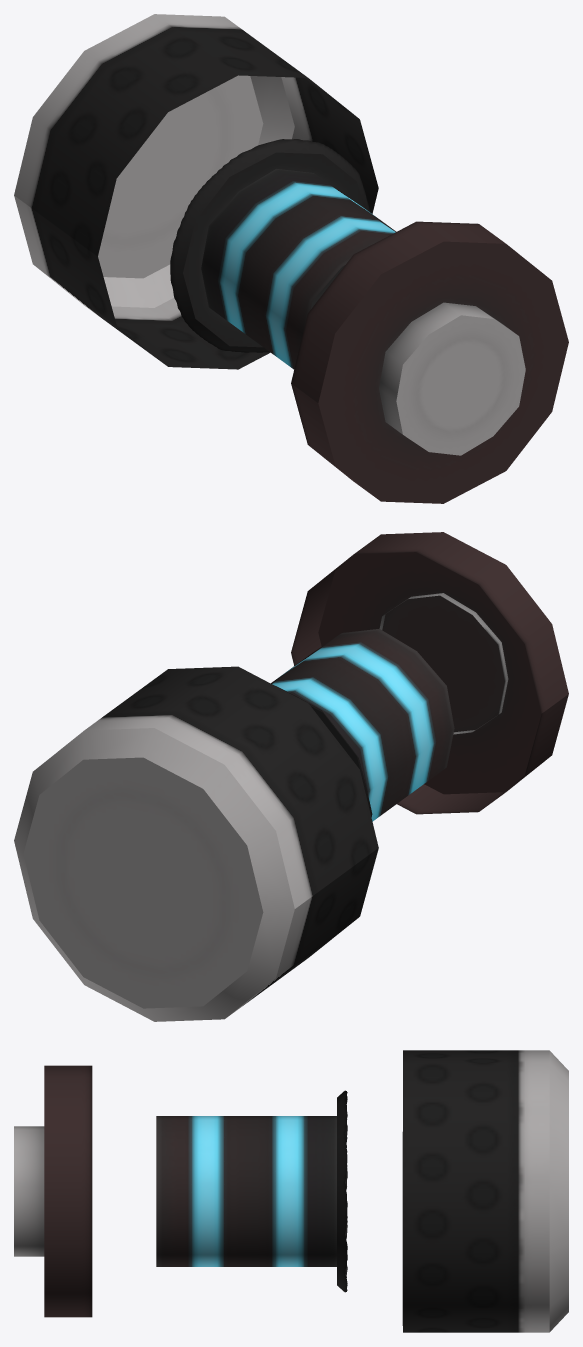
The model's file is obj_interactive_suspensionsport_05_off.fbx.
3 views of the same model, one above another, from view 1: azimuth 30°, elevation 25°; view 2: azimuth 150°, elevation 25°; view 3: azimuth 270°, elevation 25° (orthographic). The views are drawn at different scales.
Visible parts, largest first — view 1: obj_interactive_suspensionsport_05_off; view 2: obj_interactive_suspensionsport_05_off; view 3: obj_interactive_suspensionsport_05_off.
Part boxes in pixels (<box>): obj_interactive_suspensionsport_05_off: <box>14,14,568,503</box>; obj_interactive_suspensionsport_05_off: <box>14,532,568,1021</box>; obj_interactive_suspensionsport_05_off: <box>14,1050,568,1332</box>.
Bounding box in the file's own units: 1.09 × 1.09 × 2.14.
